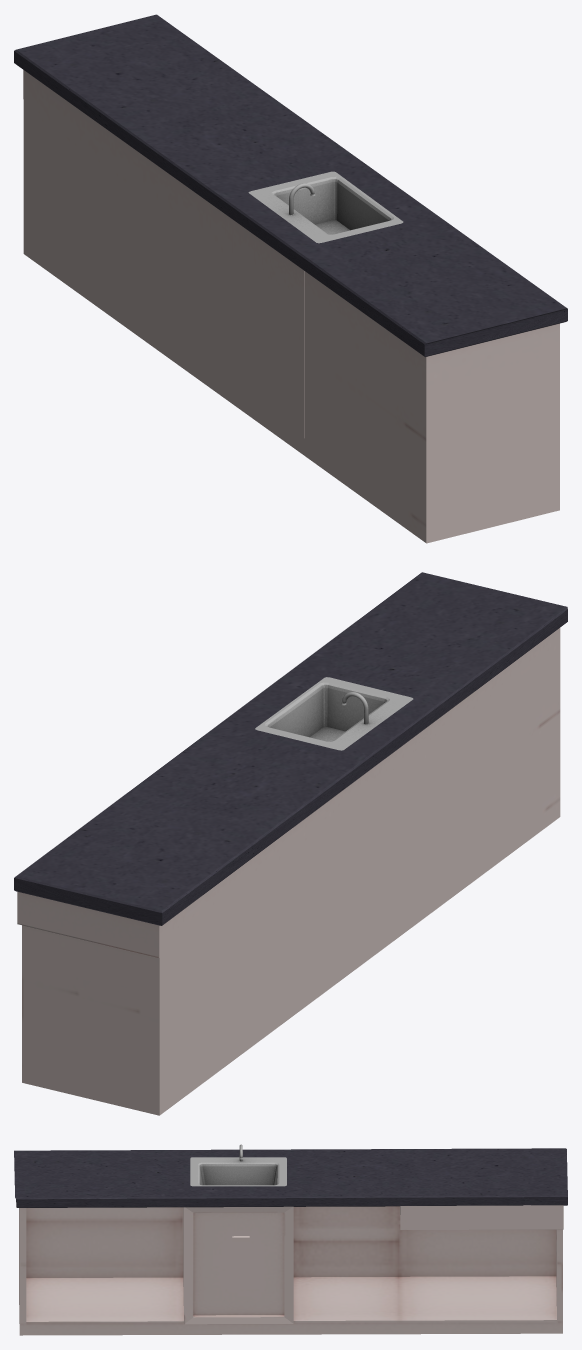
Rendered from kitchen_counter.glb.
3 renders of one model, top to bottom at view 1: azimuth 30°, elevation 25°; view 2: azimuth 150°, elevation 25°; view 3: azimuth 270°, elevation 25°, orthographic. The views are drawn at different scales.
Visible parts, largest first — view 1: frl_apartment_lower_shelf_01, frl_apartment_lower_shelf_01_part_03, frl_apartment_sink; view 2: frl_apartment_lower_shelf_01, frl_apartment_lower_shelf_01_part_03, frl_apartment_sink; view 3: frl_apartment_lower_shelf_01, frl_apartment_lower_shelf_01_part_03, frl_apartment_sink.
Boxes of the visible parts, bbox=[...] form: frl_apartment_lower_shelf_01: bbox=[14, 14, 567, 543]; frl_apartment_lower_shelf_01_part_03: bbox=[223, 213, 304, 437]; frl_apartment_sink: bbox=[248, 171, 403, 243]; frl_apartment_lower_shelf_01: bbox=[14, 572, 567, 1115]; frl_apartment_lower_shelf_01_part_03: bbox=[358, 718, 439, 949]; frl_apartment_sink: bbox=[255, 677, 413, 750]; frl_apartment_lower_shelf_01: bbox=[14, 1148, 567, 1335]; frl_apartment_lower_shelf_01_part_03: bbox=[183, 1206, 293, 1324]; frl_apartment_sink: bbox=[190, 1144, 286, 1186].
Size of the model in its own units: 0.669 by 0.9788 by 3.11.
1 material, 1 textured.
